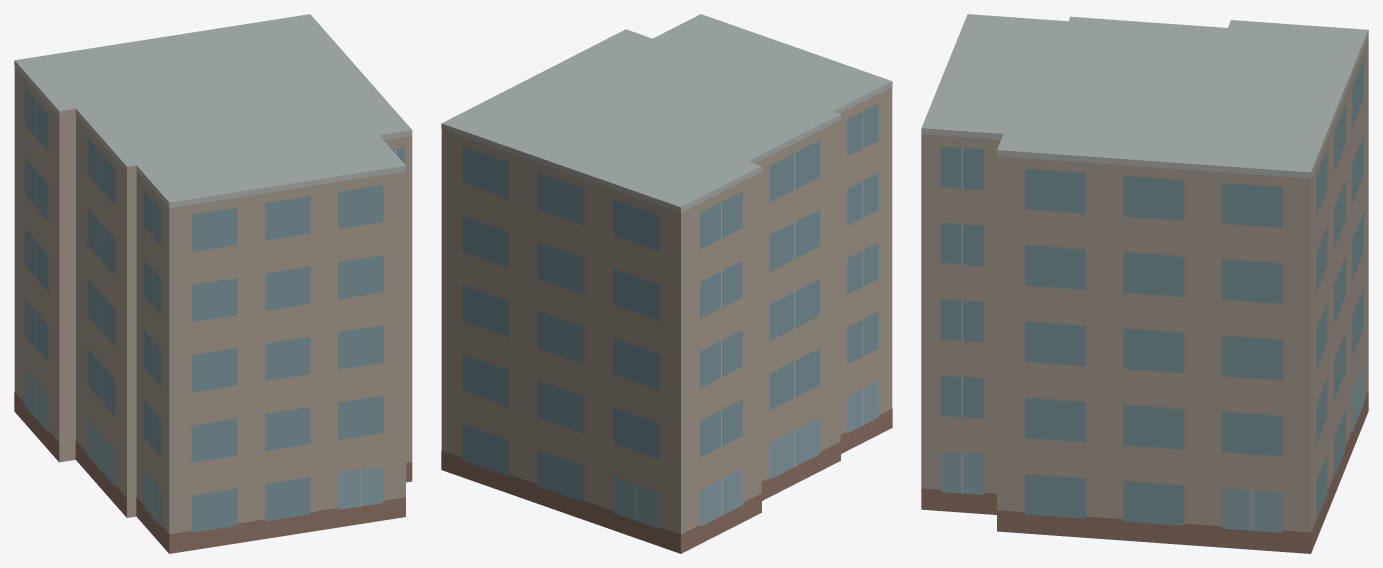
The model's file is survey-upis-32659132.glb.
3 renders of one model, left to right at view 1: azimuth 30°, elevation 25°; view 2: azimuth 150°, elevation 25°; view 3: azimuth 270°, elevation 25°, orthographic. The views are drawn at different scales.
Visible parts, largest first — view 1: survey-upis-32659132.tmp; view 2: survey-upis-32659132.tmp; view 3: survey-upis-32659132.tmp.
Part boxes in pixels (<box>): survey-upis-32659132.tmp: <box>14,14,412,553</box>; survey-upis-32659132.tmp: <box>441,14,892,553</box>; survey-upis-32659132.tmp: <box>921,14,1368,553</box>.
Bounding box in the file's own units: 13.64 × 15.3 × 16.27.
